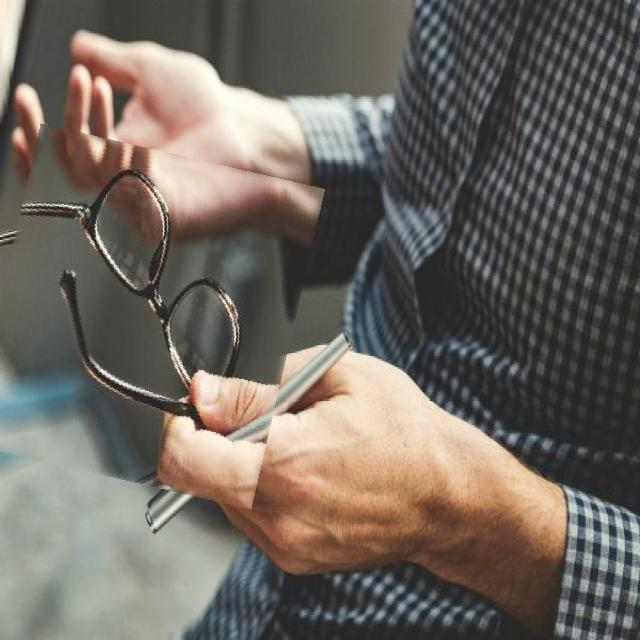glasses: (0, 137, 308, 495)
